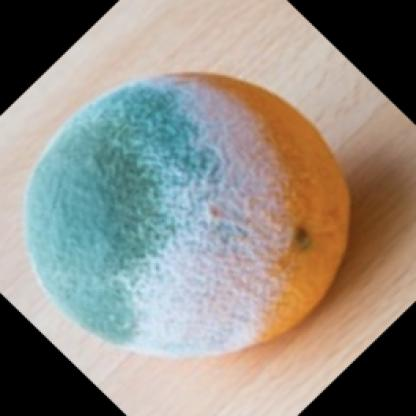rotten: (24, 72, 353, 355)
